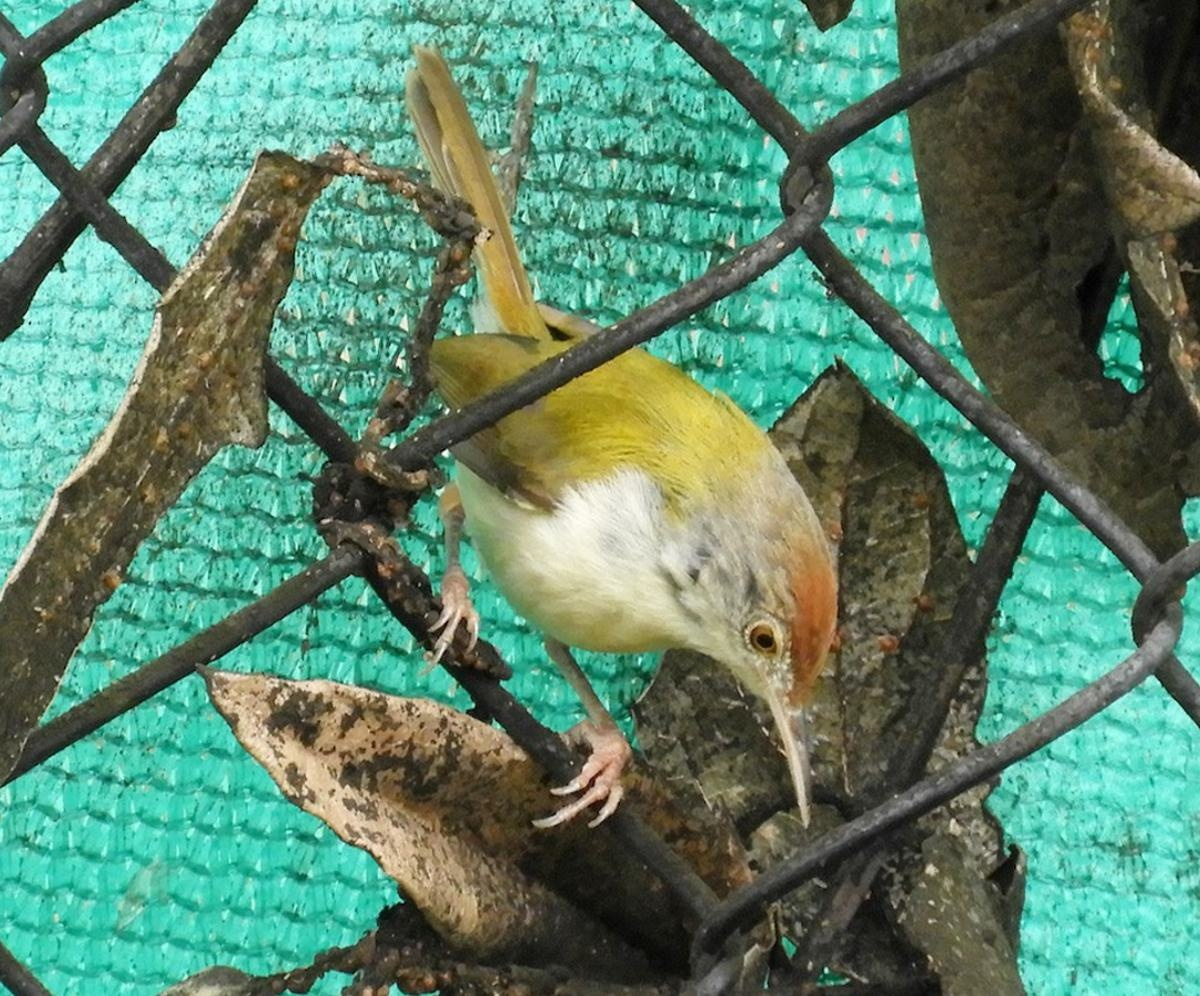tailorbird: (409, 166, 897, 837)
